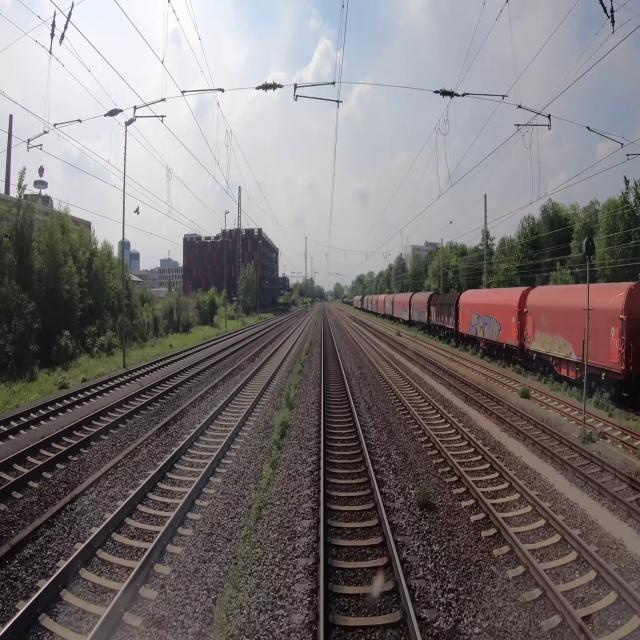Plant: (211, 311, 319, 639), (413, 478, 435, 511), (519, 384, 532, 399)
